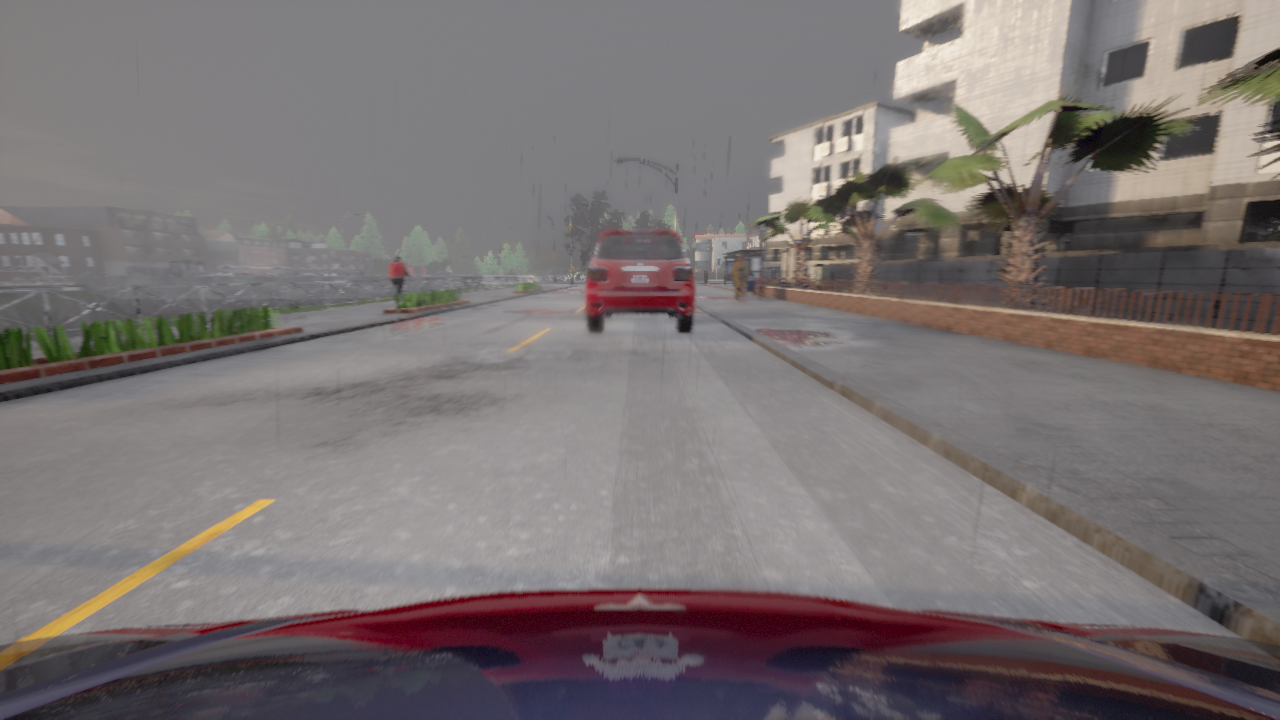cyclist: (0, 588, 1279, 719), (585, 229, 694, 332), (248, 271, 275, 276), (356, 275, 357, 276)
pedestrian: (387, 255, 410, 303), (732, 256, 748, 299), (755, 272, 766, 299), (741, 258, 748, 295)
